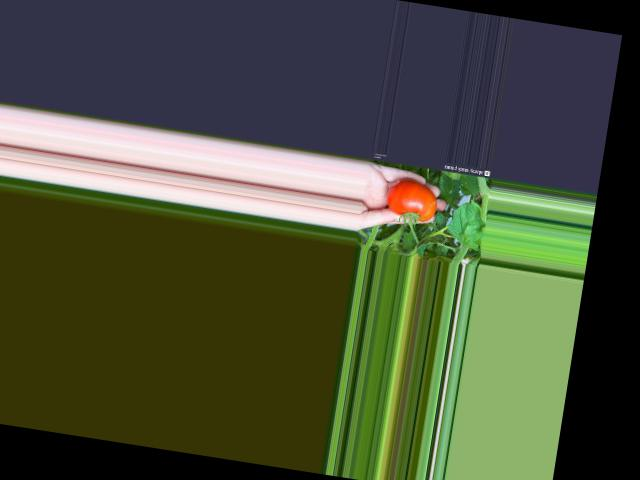tomato: (383, 176, 439, 222)
